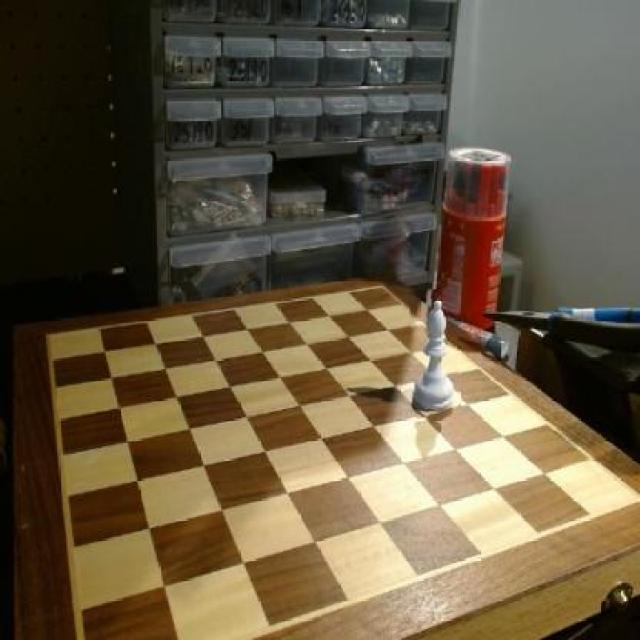black-rook: (412, 289, 460, 421)
